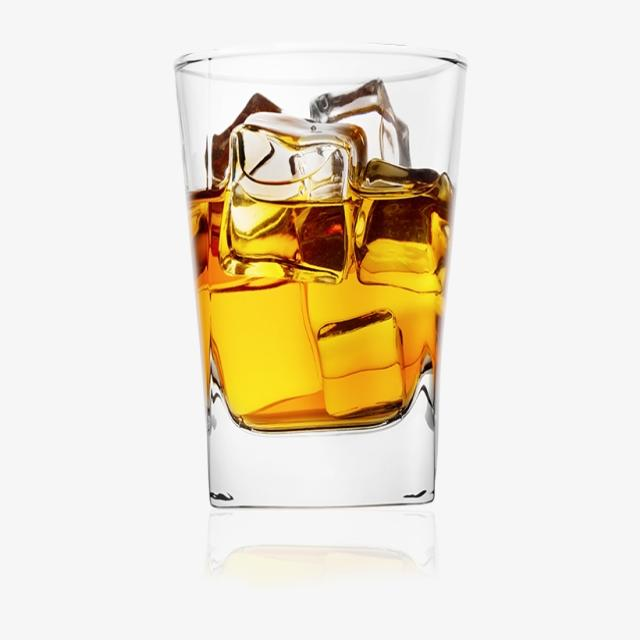Cup: (170, 38, 470, 510)
